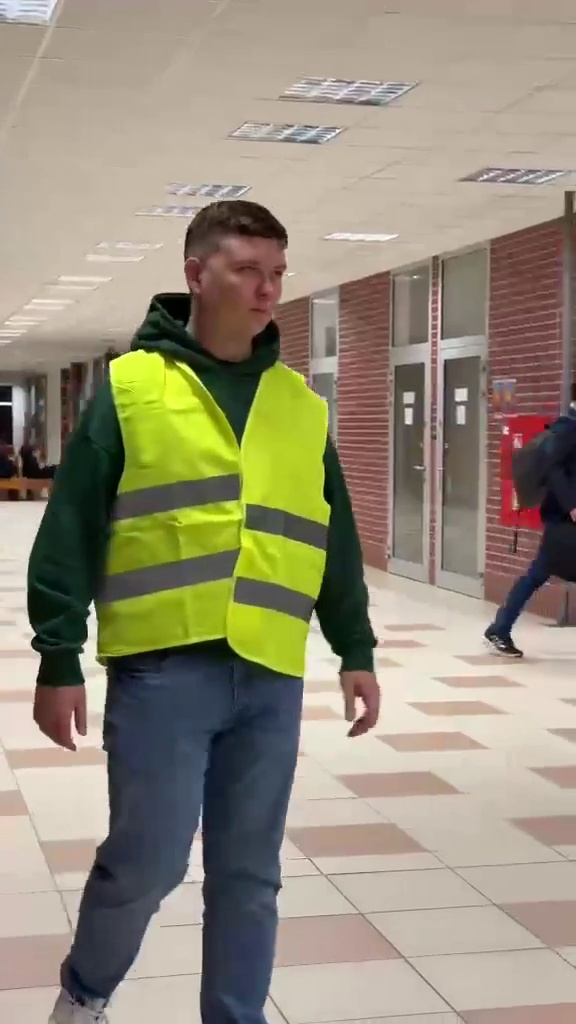no vest: (491, 386, 576, 674)
vest: (21, 191, 379, 973)
